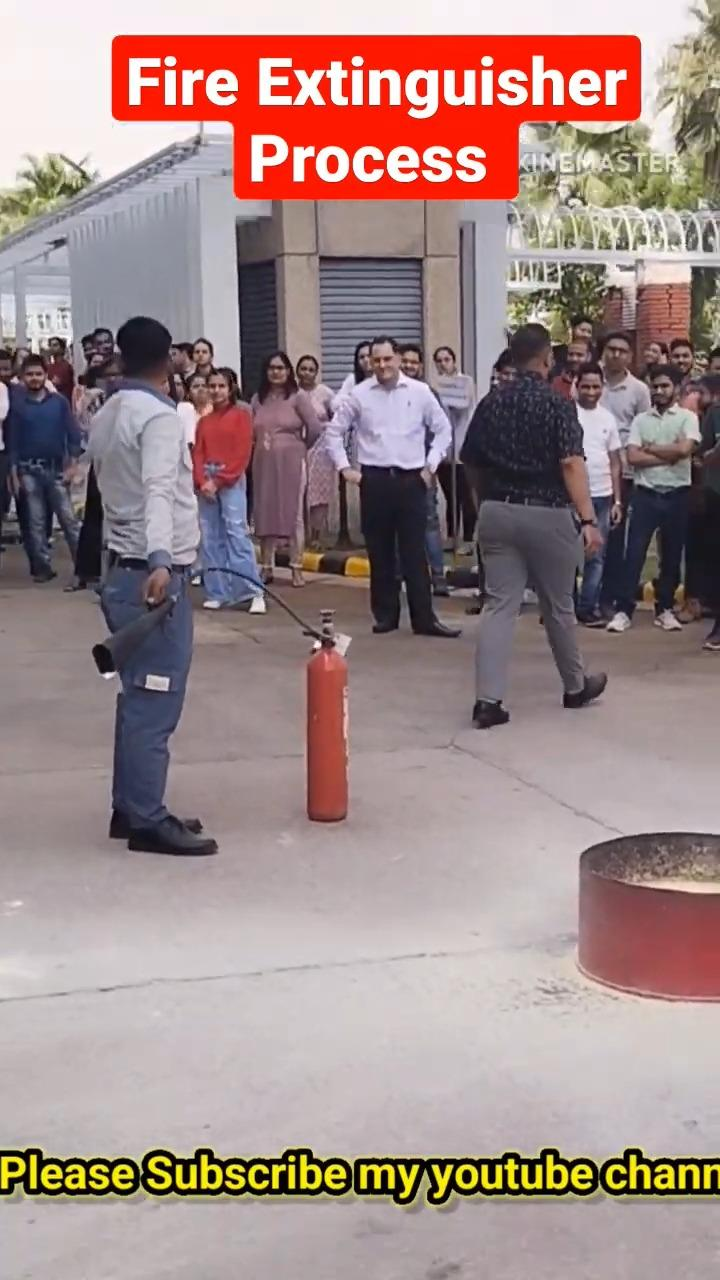FireExtinguisher: (280, 633, 372, 842)
not: (541, 816, 720, 1010), (246, 388, 340, 523), (180, 398, 257, 506)
